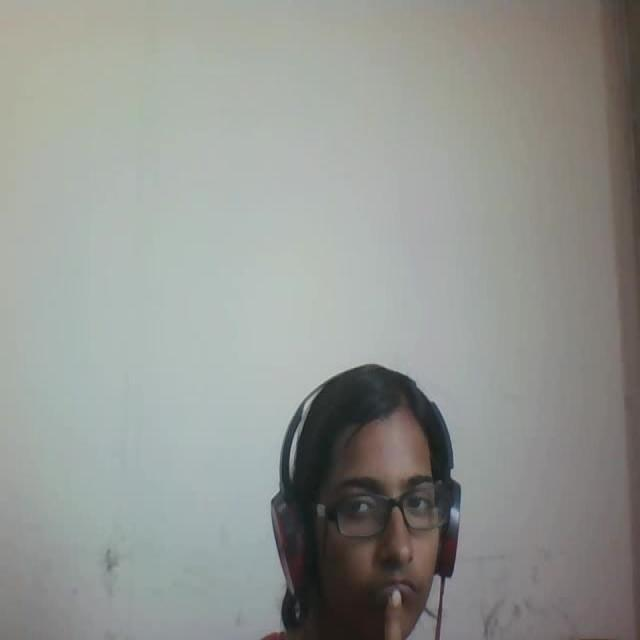Engaged: (246, 320, 507, 640)
